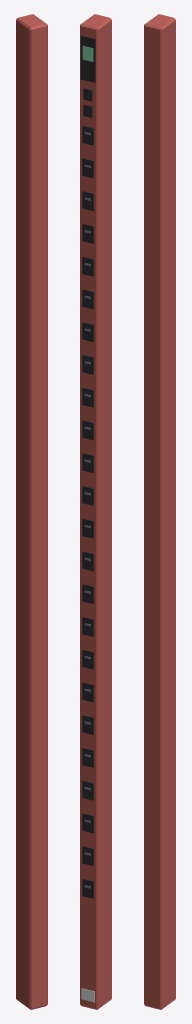
Rendered from pdu.fbx.
The picture shows the model from 3 angles, left to right: view 1: azimuth 30°, elevation 25°; view 2: azimuth 150°, elevation 25°; view 3: azimuth 330°, elevation 25°; orthographic projection.
Visible parts, largest first — view 1: PDU; view 2: PDU; view 3: PDU.
Boxes of the visible parts, x1=… form: PDU: x1=16, y1=14, x2=47, y2=1009; PDU: x1=80, y1=14, x2=111, y2=1009; PDU: x1=144, y1=14, x2=175, y2=1009.
Bounding box in the file's own units: 0.036 × 1.8 × 0.053.
